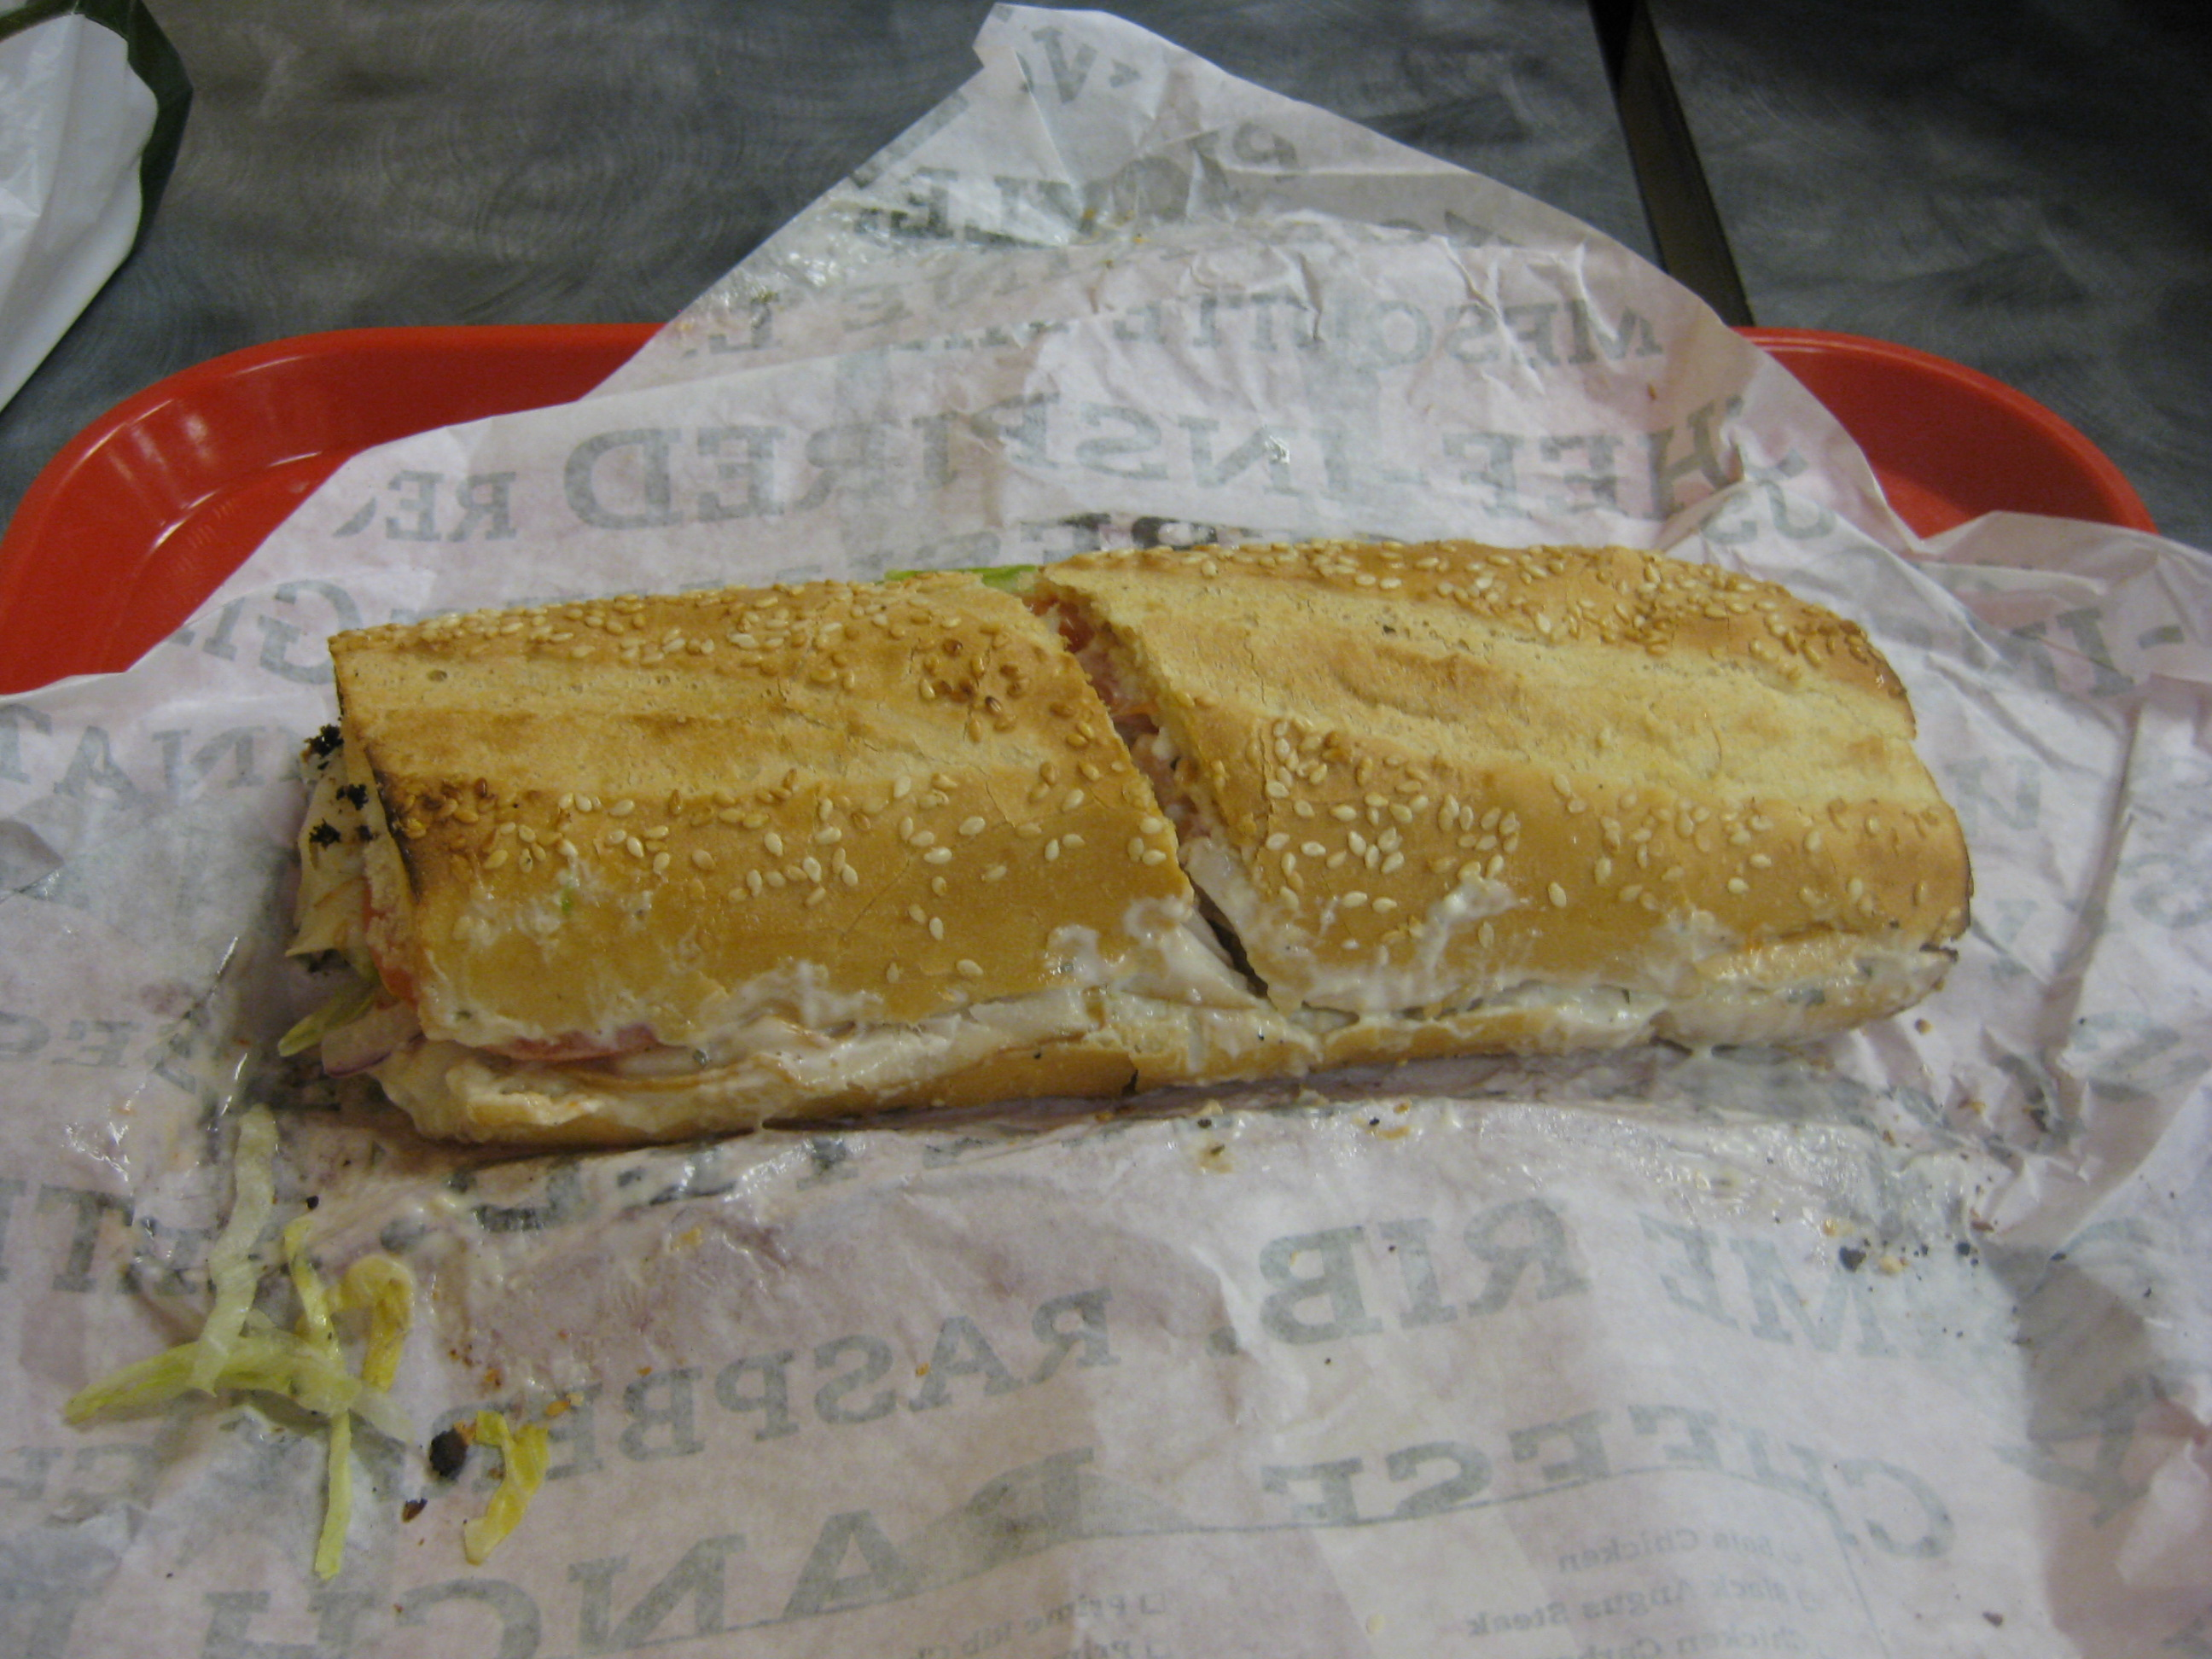sub: (276, 486, 2037, 1134)
